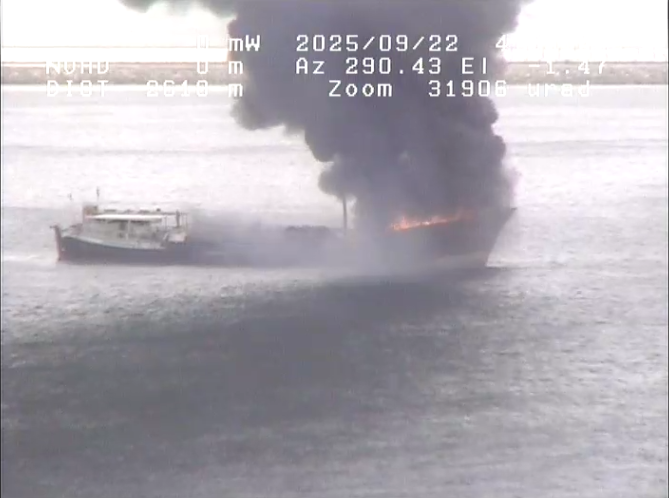FIRE_ONBOARD: (19, 19, 607, 334)
FISHING_VESSEL: (38, 158, 535, 286)
